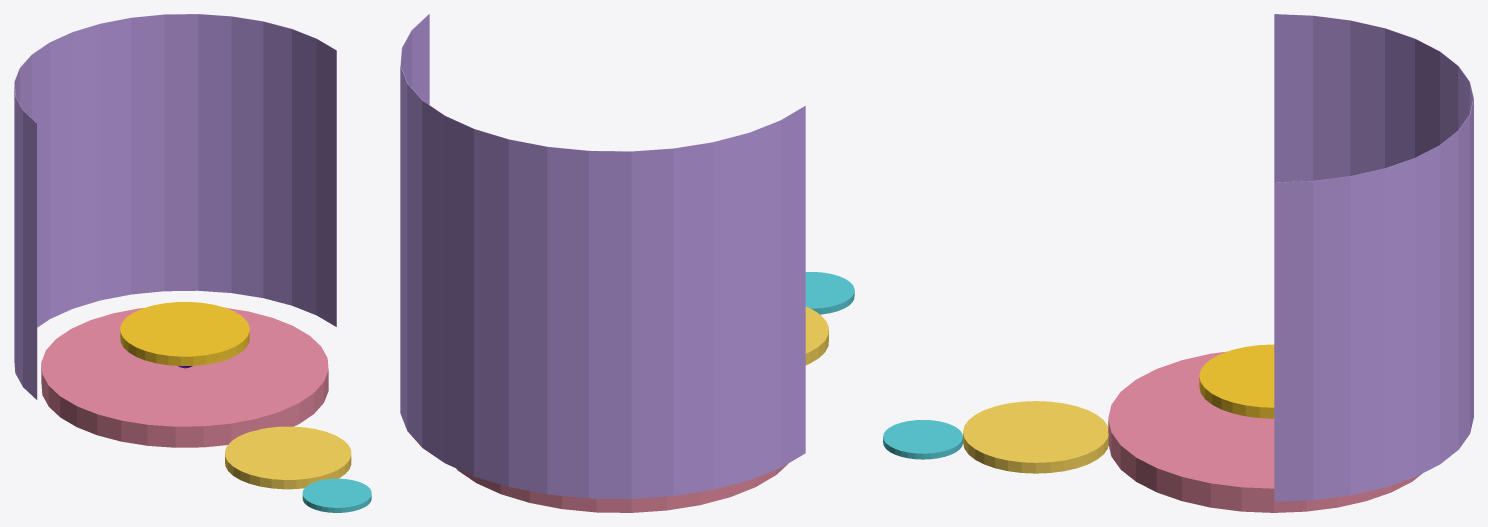
The model's file is Lobby.fbx.
3 renders of one model, left to right at view 1: azimuth 30°, elevation 25°; view 2: azimuth 150°, elevation 25°; view 3: azimuth 270°, elevation 25°, orthographic. The views are drawn at different scales.
Visible parts, largest first — view 1: Circle.001, Circle, Circle.002, Circle.003, Circle.004; view 2: Circle.001, Circle, Circle.004, Circle.003; view 3: Circle.001, Circle, Circle.003, Circle.002, Circle.004.
Part boxes in pixels (box(x1,y1,x2,y2)): Circle.001: box(14, 14, 336, 399); Circle: box(41, 308, 328, 447); Circle.002: box(120, 302, 249, 365); Circle.003: box(225, 426, 351, 489); Circle.004: box(302, 478, 371, 512); Circle.001: box(400, 14, 805, 498); Circle: box(456, 463, 788, 512); Circle.004: box(805, 272, 854, 314); Circle.003: box(805, 306, 828, 364); Circle.001: box(1274, 14, 1473, 501); Circle: box(1108, 351, 1421, 512); Circle.003: box(963, 401, 1108, 473); Circle.002: box(1199, 344, 1274, 418); Circle.004: box(883, 420, 962, 459).
Size of the model in its own units: 964 by 921 by 1427.
